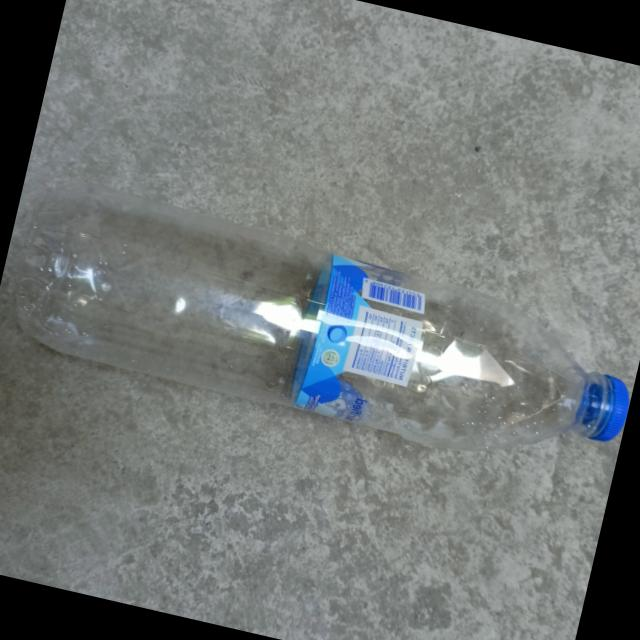Bottle: (6, 184, 628, 451)
